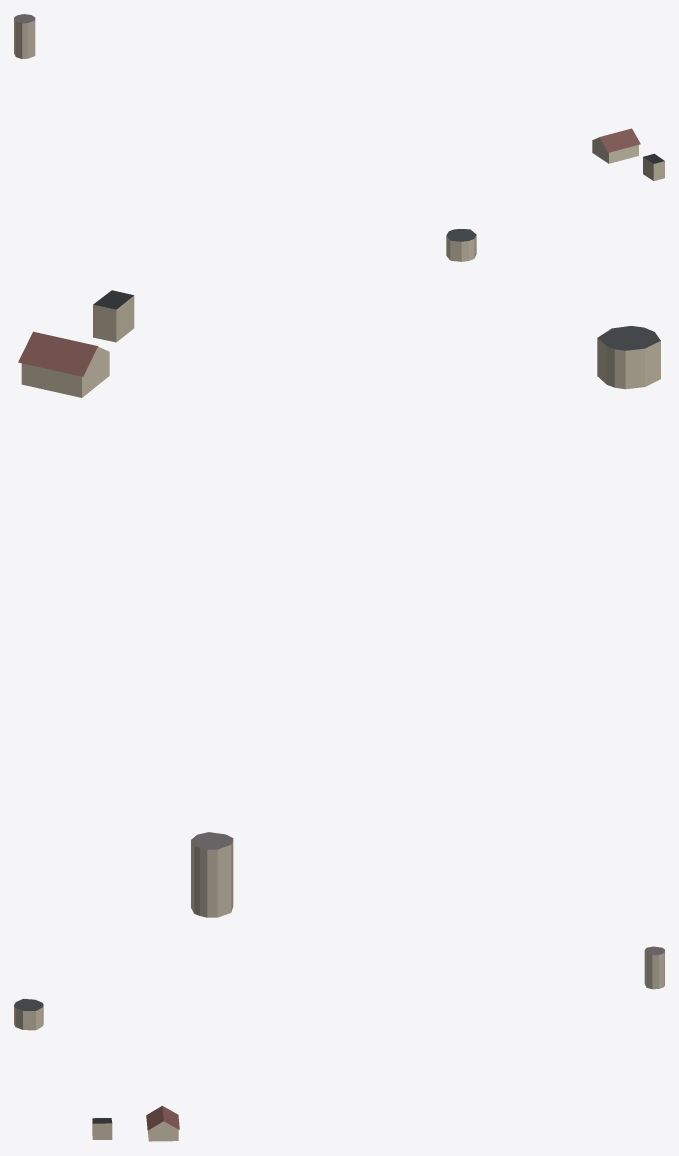
The picture shows the model from 3 angles, top to bottom: view 1: azimuth 30°, elevation 25°; view 2: azimuth 150°, elevation 25°; view 3: azimuth 270°, elevation 25°; orthographic projection. The views are drawn at different scales.
Visible parts, largest first — view 1: tuile; view 2: tuile; view 3: tuile.
Boxes of the visible parts, left/top/right/bottom form: tuile: left=14, top=14, right=664, bottom=261; tuile: left=18, top=290, right=660, bottom=917; tuile: left=14, top=946, right=664, bottom=1141.
Bounding box in the file's own units: 106 × 10.02 × 174.
